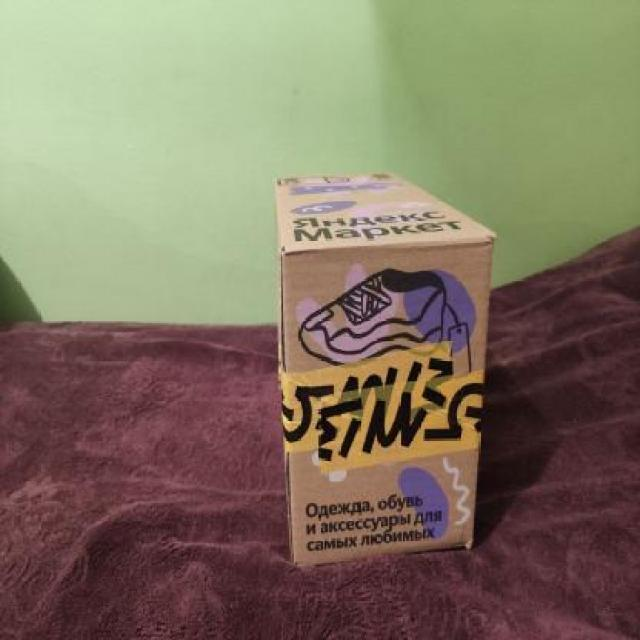box: (268, 161, 489, 567)
